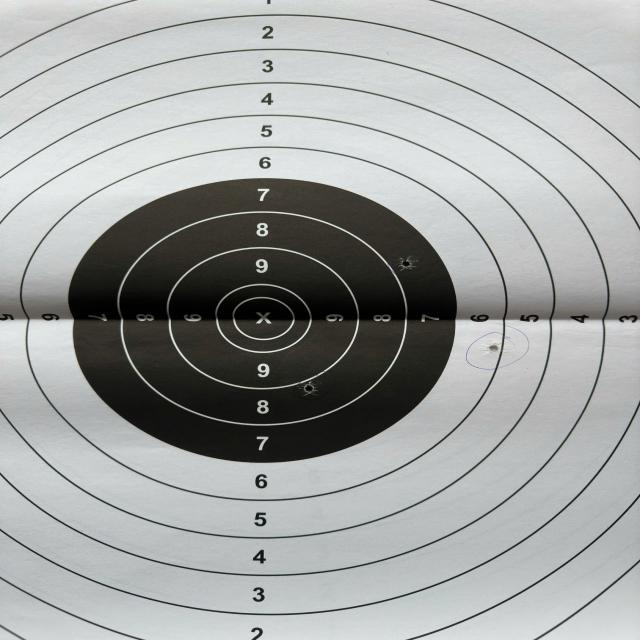bullet: (304, 384, 316, 396), (488, 344, 500, 352), (400, 260, 412, 268)
target: (0, 0, 640, 640)
